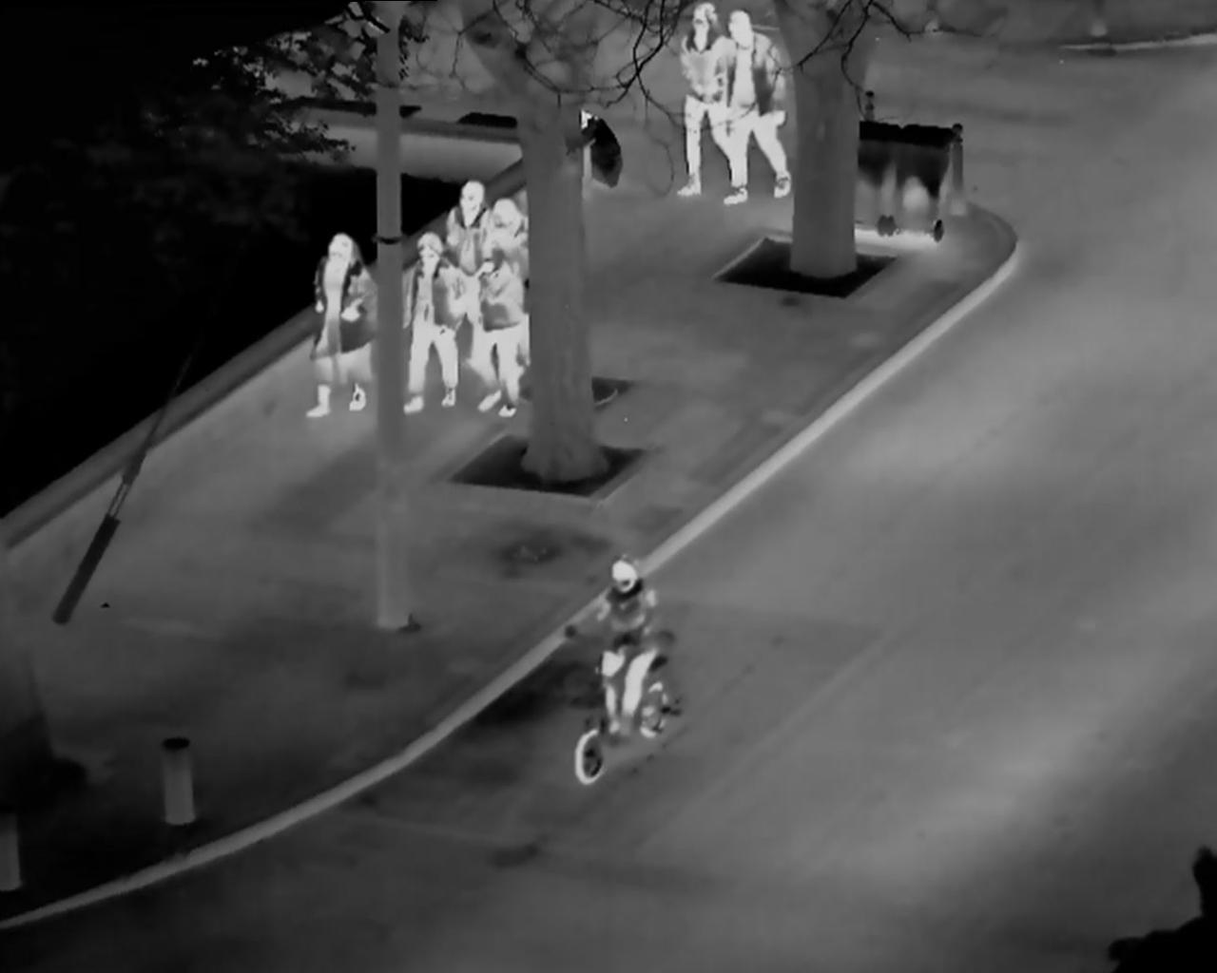person: (565, 541, 684, 793), (300, 220, 374, 428), (718, 10, 789, 206), (462, 234, 522, 411), (398, 221, 456, 404), (435, 169, 486, 269), (479, 186, 527, 275)
